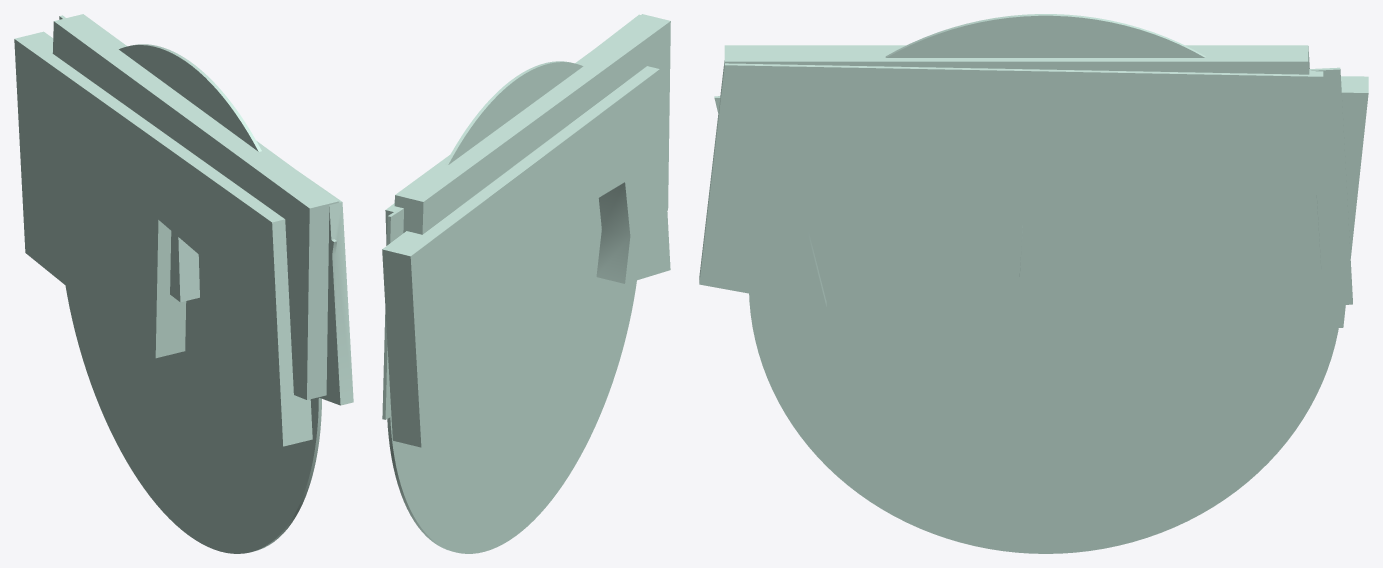
The picture shows the model from 3 angles, left to right: view 1: azimuth 30°, elevation 25°; view 2: azimuth 150°, elevation 25°; view 3: azimuth 270°, elevation 25°; orthographic projection. The views are drawn at different scales.
Parts seen in each view (by area): view 1: Renderer Node; view 2: Renderer Node; view 3: Renderer Node.
Part boxes in pixels (<box>): Renderer Node: <box>14,14,353,553</box>; Renderer Node: <box>382,14,670,553</box>; Renderer Node: <box>699,14,1368,553</box>.
Size of the model in its own units: 0.1094 by 1.07 by 1.21.
